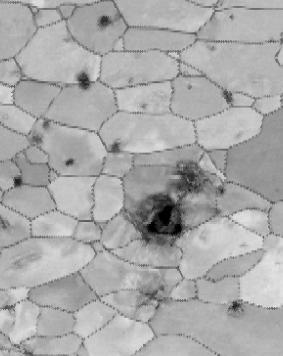good_void: (129, 187, 188, 246), (171, 151, 233, 202), (126, 274, 180, 315), (227, 294, 247, 316), (94, 11, 118, 29), (220, 88, 234, 112), (77, 70, 91, 92), (107, 137, 123, 154), (58, 33, 74, 45), (11, 65, 24, 78), (61, 157, 76, 167), (30, 134, 42, 146), (138, 101, 149, 113), (0, 215, 10, 228), (41, 119, 51, 130), (125, 73, 136, 83), (182, 82, 193, 90), (207, 44, 218, 52), (14, 173, 22, 183), (224, 13, 235, 18)
